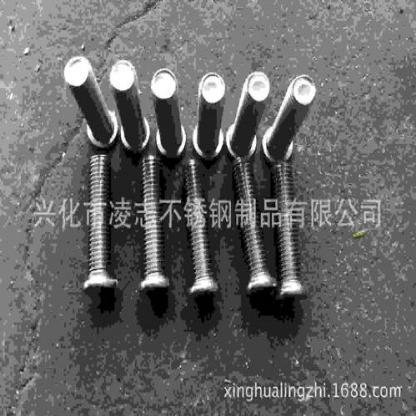FOD: (234, 154, 278, 292), (64, 53, 118, 149), (183, 158, 220, 298), (274, 160, 310, 303), (262, 72, 318, 162), (82, 153, 118, 292), (136, 154, 171, 292), (106, 57, 152, 153), (225, 70, 272, 158), (152, 67, 186, 159), (191, 70, 225, 160)
